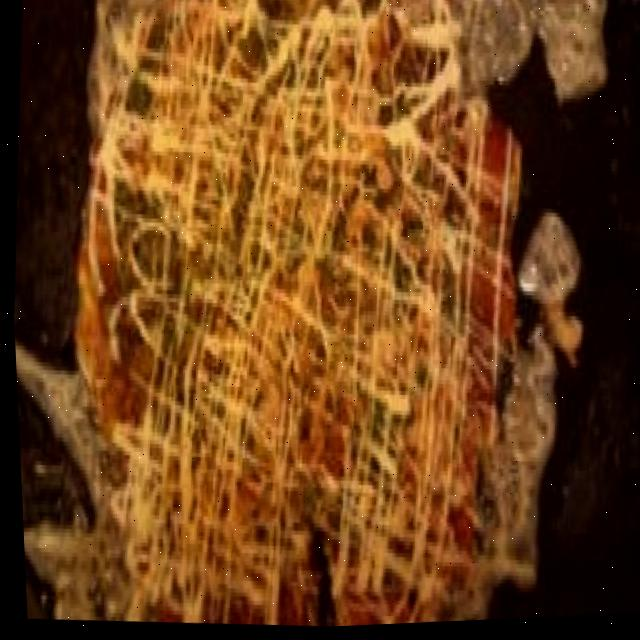蛋糕甜品: (0, 0, 610, 640)
